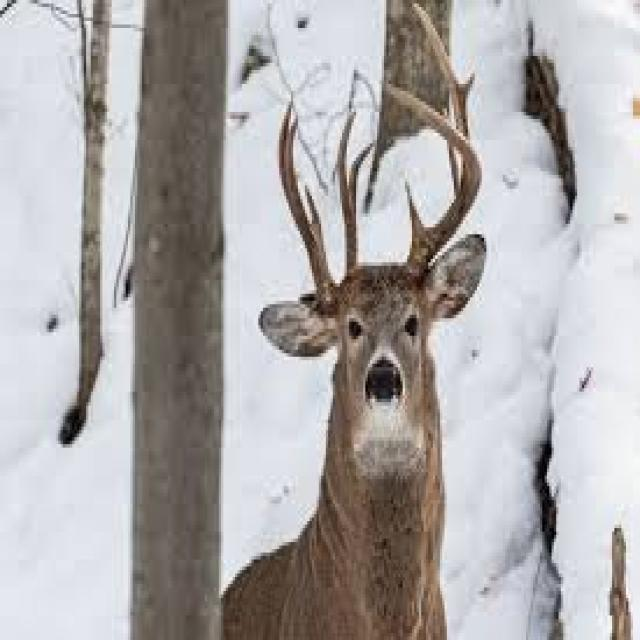deer: (223, 7, 484, 637)
